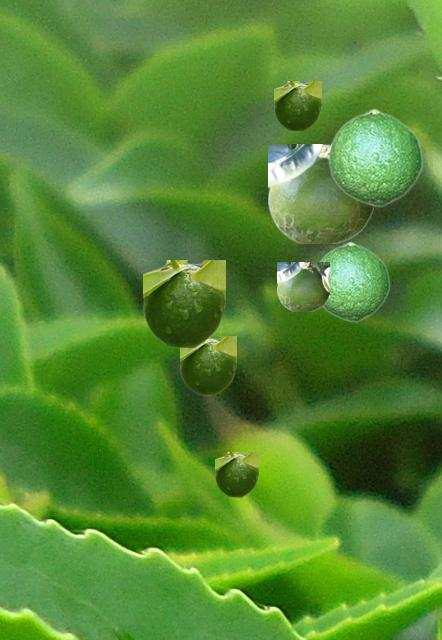dalandan: (268, 144, 372, 242), (327, 108, 422, 206), (143, 260, 224, 347), (319, 241, 389, 321), (180, 336, 235, 394), (277, 262, 328, 310), (274, 81, 320, 130), (215, 452, 257, 496)
